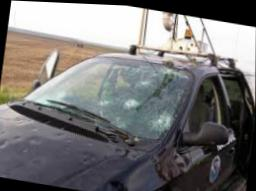Bonnet: (0, 104, 146, 189)
Fender: (83, 138, 197, 191)
Windshield: (21, 54, 194, 146)
